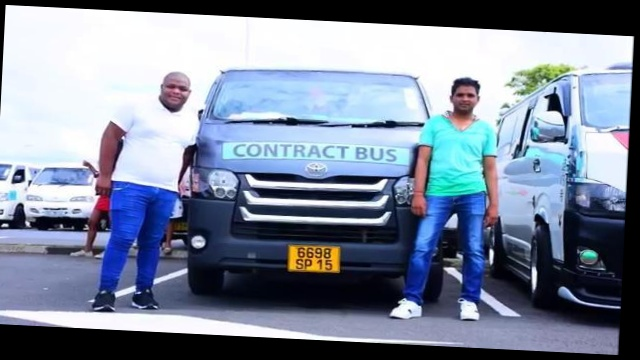van: (187, 61, 461, 308)
